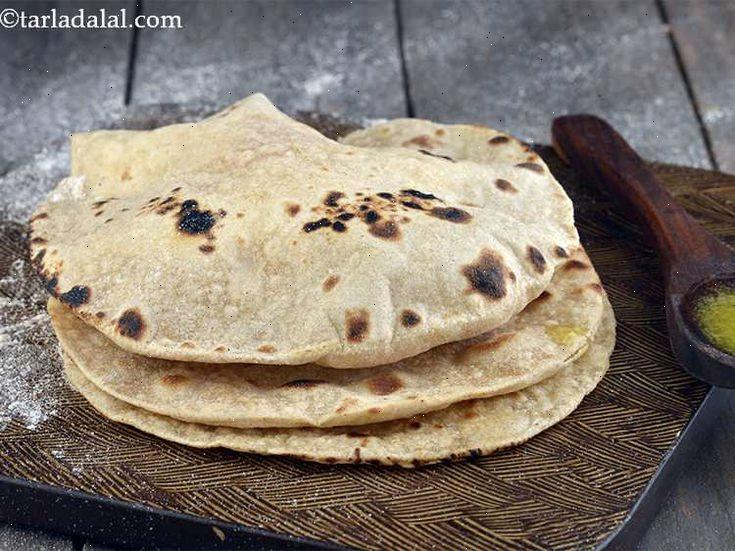roti phulka: (27, 118, 618, 466)
